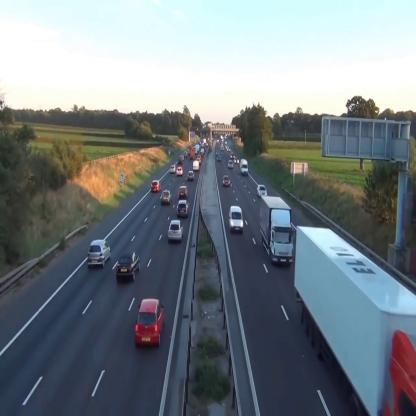car: (88, 240, 111, 269), (116, 253, 140, 280), (168, 220, 184, 242), (177, 200, 189, 217), (162, 190, 172, 203), (257, 184, 267, 196), (179, 186, 188, 199), (151, 180, 161, 191), (223, 175, 230, 186), (176, 167, 183, 175), (188, 171, 194, 180), (171, 165, 176, 173), (228, 160, 233, 168)
lorry: (294, 224, 416, 416), (259, 195, 294, 268), (229, 203, 244, 231), (240, 159, 248, 175)
